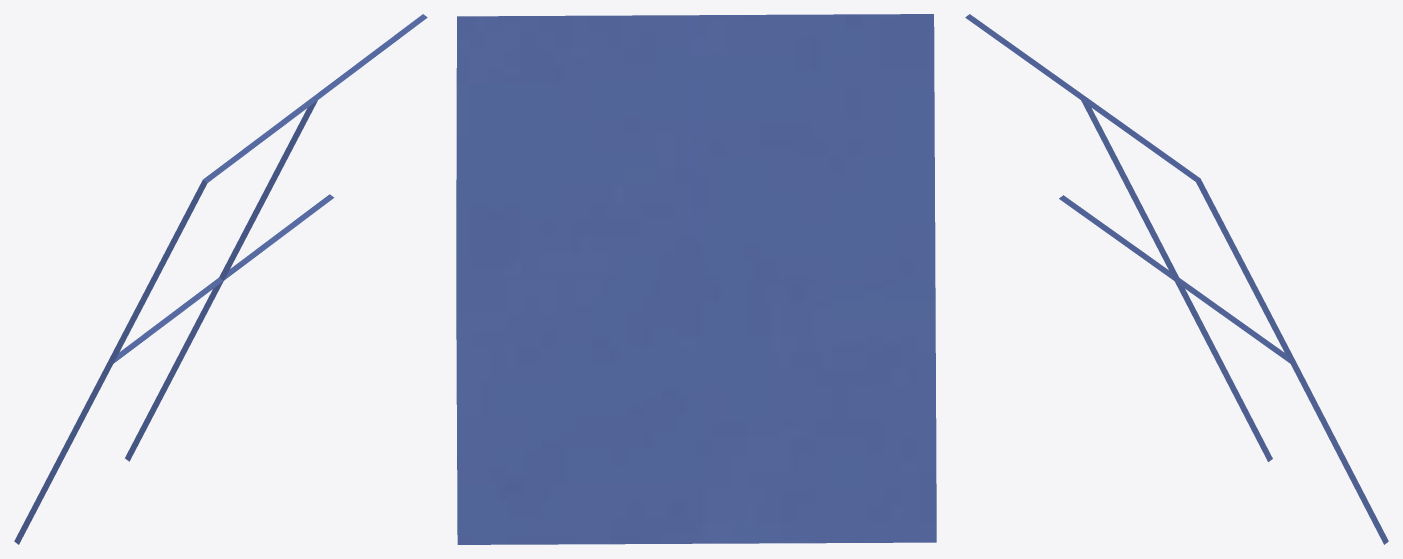
3 renders of one model, left to right at view 1: azimuth 30°, elevation 25°; view 2: azimuth 150°, elevation 25°; view 3: azimuth 270°, elevation 25°, orthographic. The views are drawn at different scales.
Bounding box in the file's own units: 19675 × 17763 × 16579.
1 material, 1 textured.
